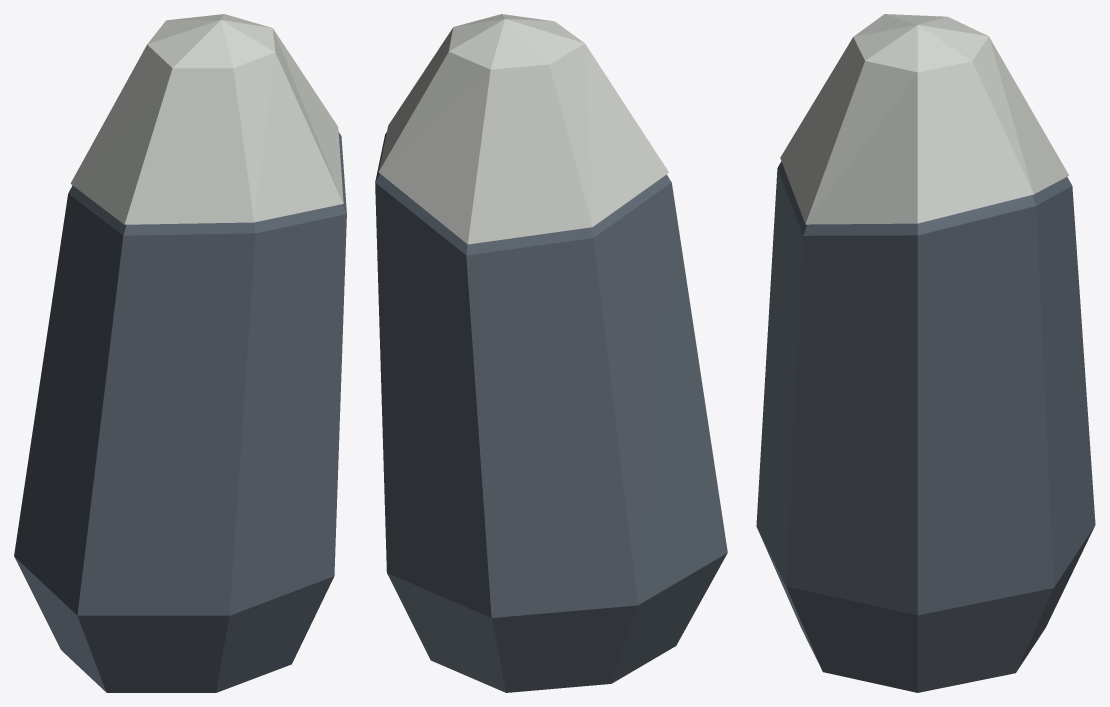
The picture shows the model from 3 angles, left to right: view 1: azimuth 30°, elevation 25°; view 2: azimuth 150°, elevation 25°; view 3: azimuth 270°, elevation 25°; orthographic projection. The views are drawn at different scales.
Parts seen in each view (by area): view 1: R02_雪覆尖石; view 2: R02_雪覆尖石; view 3: R02_雪覆尖石.
Part boxes in pixels (bbox=[...]): R02_雪覆尖石: bbox=[14, 14, 346, 692]; R02_雪覆尖石: bbox=[375, 14, 727, 692]; R02_雪覆尖石: bbox=[756, 14, 1095, 692].
Bounding box in the file's own units: 0.8016 × 1.55 × 0.7517.
